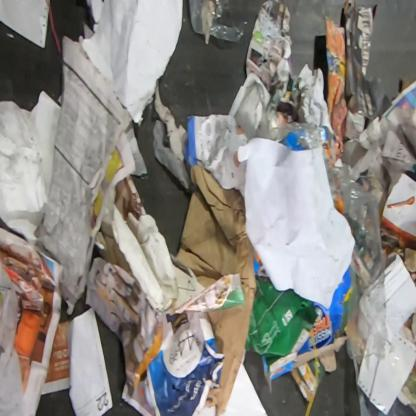cardboard: (174, 164, 258, 415), (262, 302, 346, 402), (244, 279, 317, 367)
soft_plastic: (292, 122, 388, 360), (189, 0, 244, 45)
